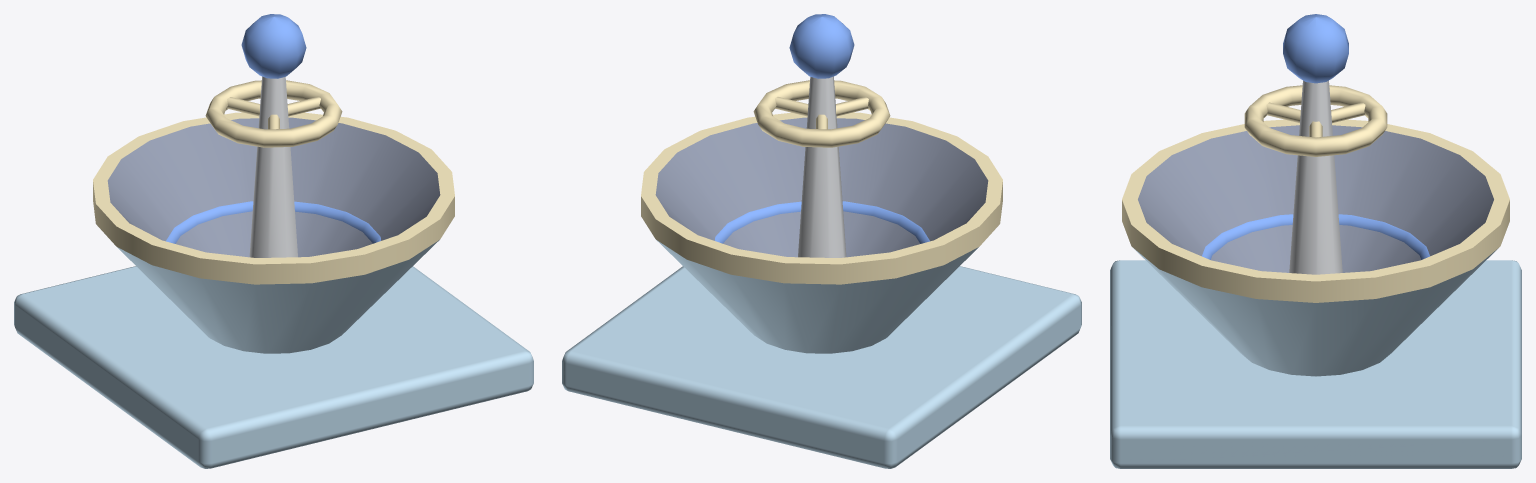
File: R4X_ScannerPulse.glb
The picture shows the model from 3 angles, left to right: view 1: azimuth 30°, elevation 25°; view 2: azimuth 150°, elevation 25°; view 3: azimuth 270°, elevation 25°; orthographic projection. The views are drawn at different scales.
Visible parts, largest first — view 1: R4X_ScannerPulse_Body; view 2: R4X_ScannerPulse_Body; view 3: R4X_ScannerPulse_Body.
Part boxes in pixels (x1,y1,x2,y2): R4X_ScannerPulse_Body: [14, 14, 533, 468]; R4X_ScannerPulse_Body: [562, 14, 1081, 468]; R4X_ScannerPulse_Body: [1110, 14, 1521, 468].
Size of the model in its own units: 0.52 by 0.514 by 0.52.
